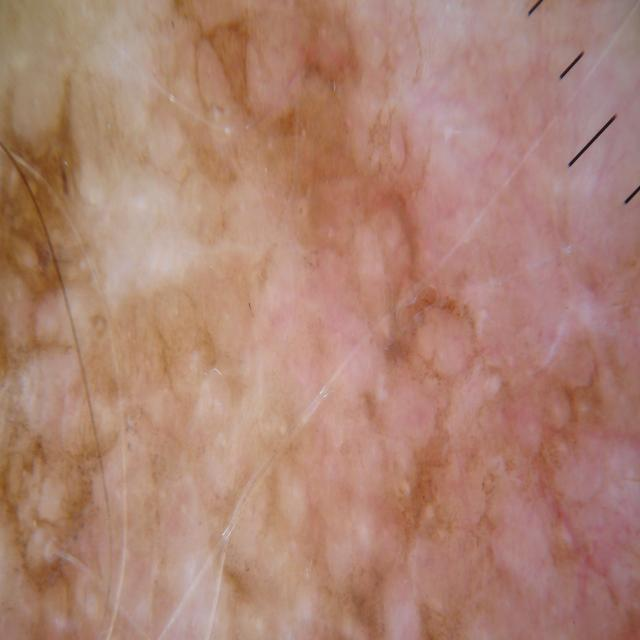Melanoma: (10, 155, 634, 640)
